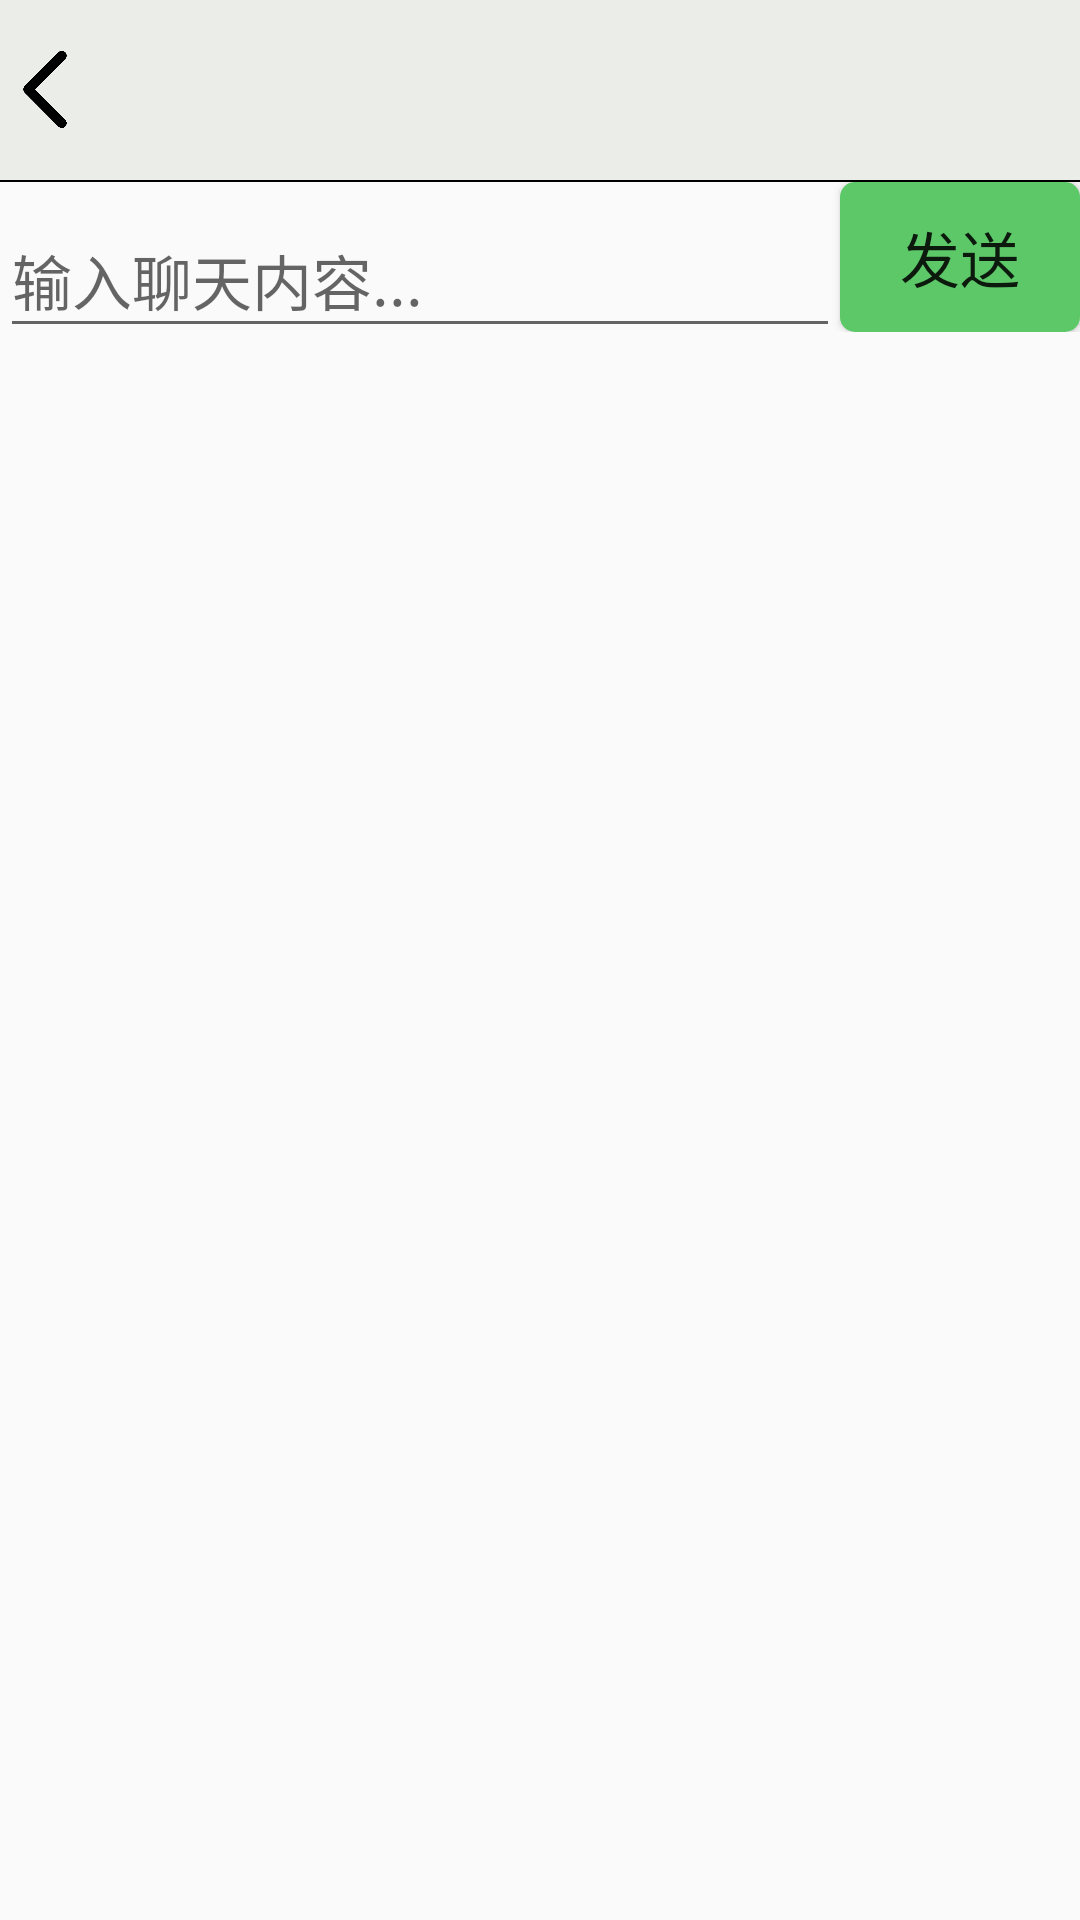

Locate icon controls on the screen. Image size 1080×1920, boxes as (x1, y1, x2, y2).
arrow: (23, 51, 67, 128)
